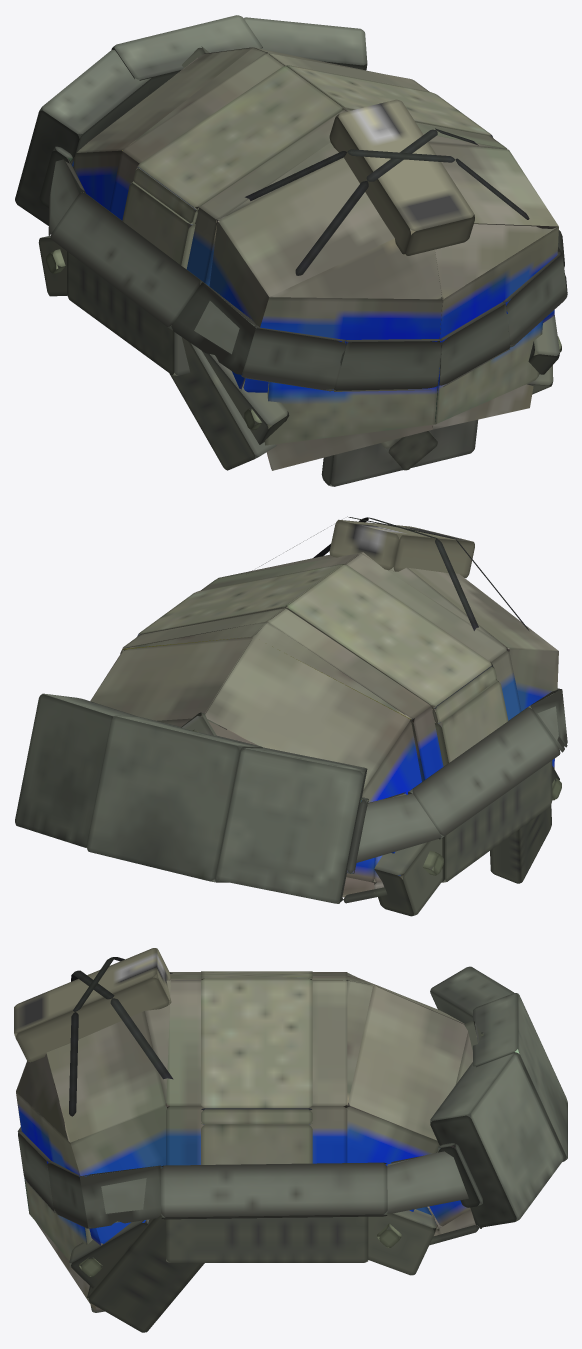
File: ukrainian_veteran_h.obj
The picture shows the model from 3 angles, top to bottom: view 1: azimuth 30°, elevation 25°; view 2: azimuth 150°, elevation 25°; view 3: azimuth 270°, elevation 25°; orthographic projection. The views are drawn at different scales.
Visible parts, largest first — view 1: cube; view 2: cube; view 3: cube.
Part boxes in pixels (x1=…): cube: x1=15, y1=15, x2=567, y2=486; cube: x1=15, y1=516, x2=567, y2=916; cube: x1=14, y1=948, x2=567, y2=1332.
Bounding box in the file's own units: 0.7693 × 0.6319 × 0.9934.
